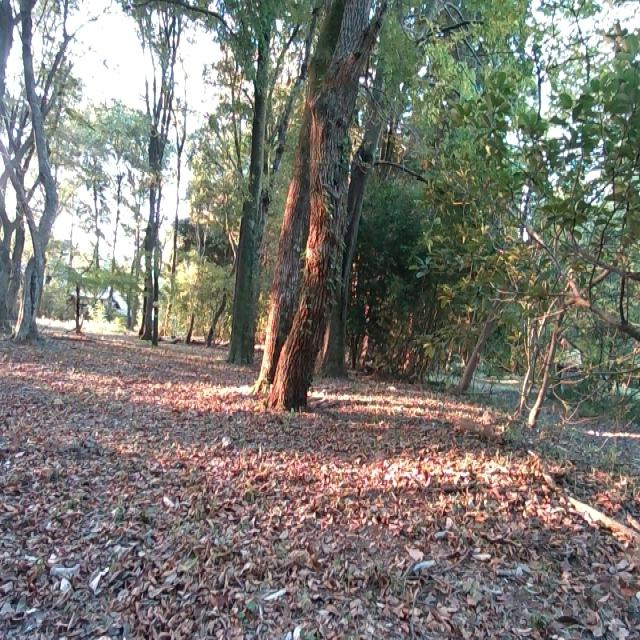bush: (438, 47, 640, 341)
tree: (246, 0, 392, 415), (0, 0, 64, 346), (136, 8, 175, 343)
